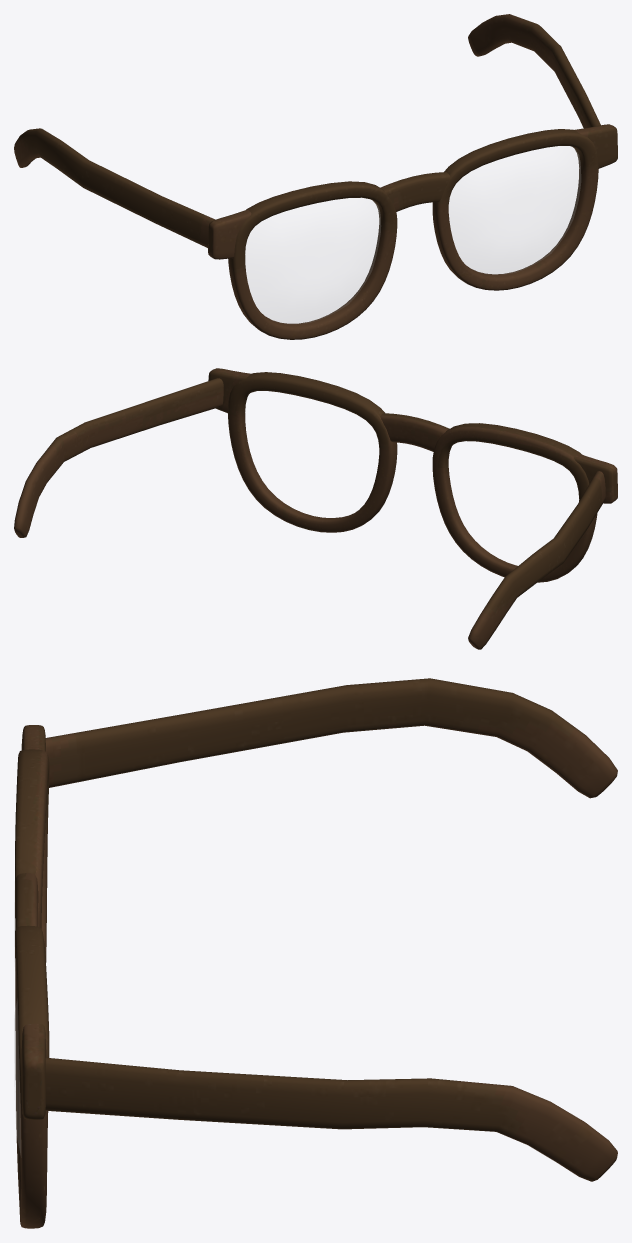
File: glass2.glb
3 renders of one model, top to bottom at view 1: azimuth 30°, elevation 25°; view 2: azimuth 150°, elevation 25°; view 3: azimuth 270°, elevation 25°, orthographic. The views are drawn at different scales.
Parts seen in each view (by area): view 1: frame.002, glass.002; view 2: frame.002; view 3: frame.002.
Boxes of the visible parts, bbox=[...] form: frame.002: bbox=[14, 14, 617, 339]; glass.002: bbox=[245, 146, 580, 323]; frame.002: bbox=[14, 368, 617, 649]; frame.002: bbox=[15, 678, 617, 1228].
Bounding box in the file's own units: 1.53 × 0.4406 × 0.9529.
Materials: 2 (2 with a texture image).
